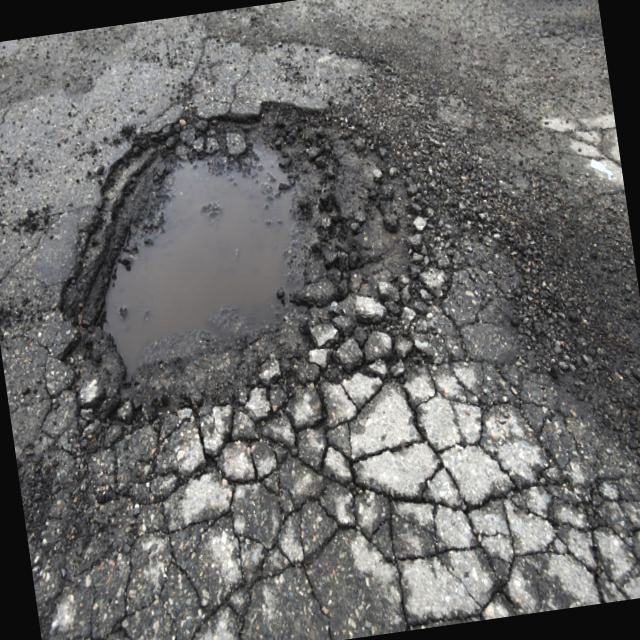Pothole: (46, 69, 640, 489)
